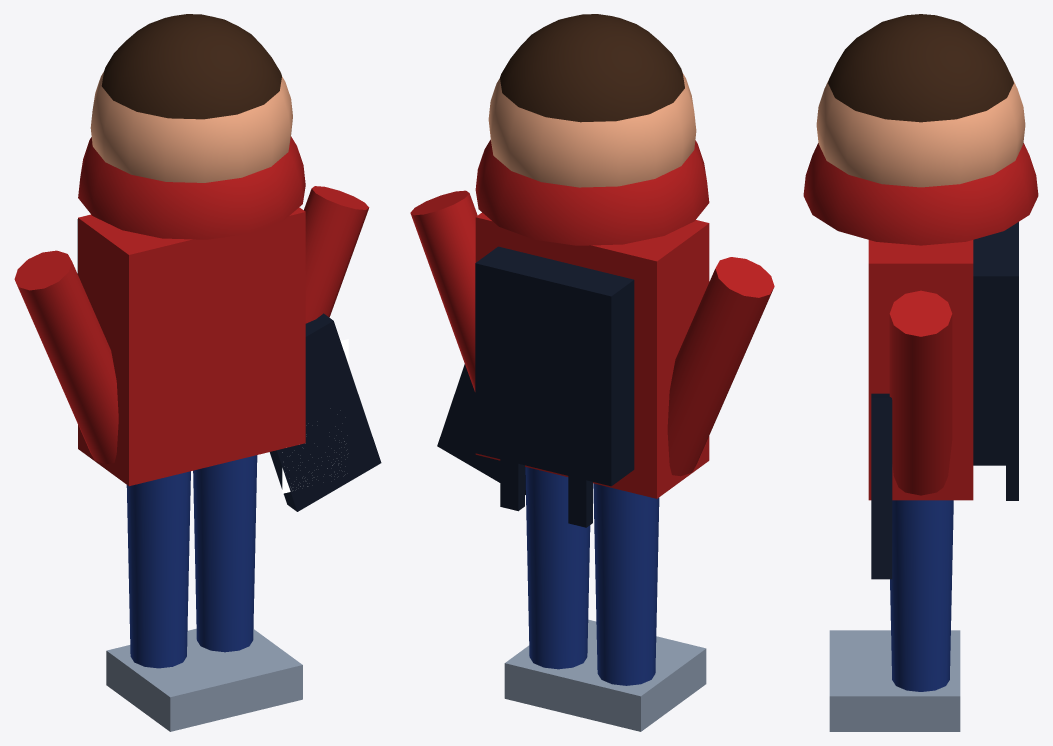
Rendered from pedestrian_casual_2025.glb.
3 views of the same model, side by side, from view 1: azimuth 30°, elevation 25°; view 2: azimuth 150°, elevation 25°; view 3: azimuth 270°, elevation 25° (orthographic). The views are drawn at different scales.
Parts seen in each view (by area): view 1: pedestrian_2025; view 2: pedestrian_2025; view 3: pedestrian_2025.
Boxes of the visible parts, <box> form: pedestrian_2025: <box>14,14,381,731</box>; pedestrian_2025: <box>410,14,774,731</box>; pedestrian_2025: <box>803,14,1038,731</box>.
Bounding box in the file's own units: 1.57 × 2.85 × 0.9.
